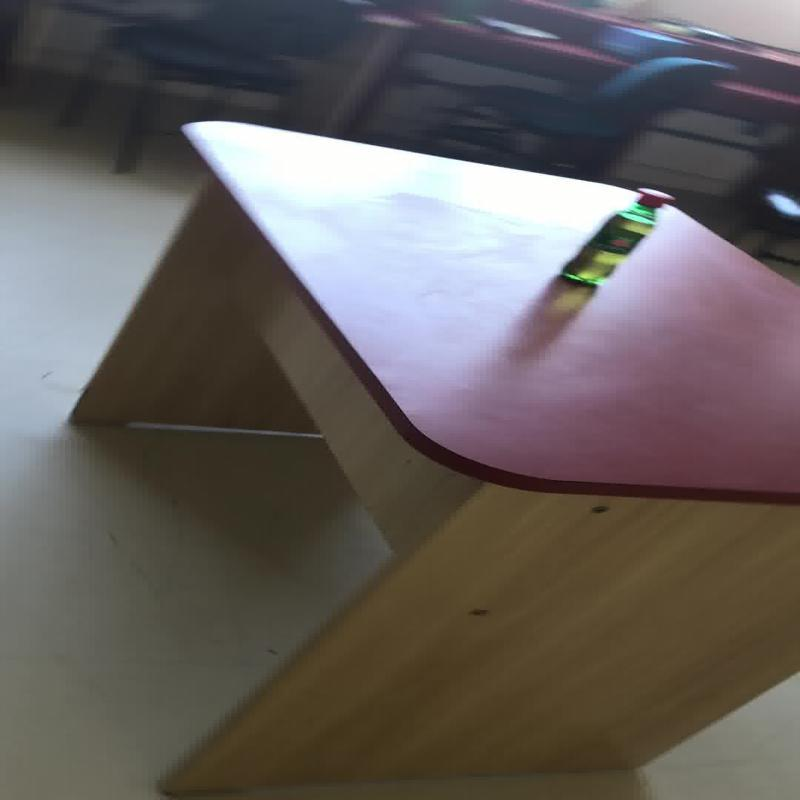guarana: (556, 186, 676, 287)
